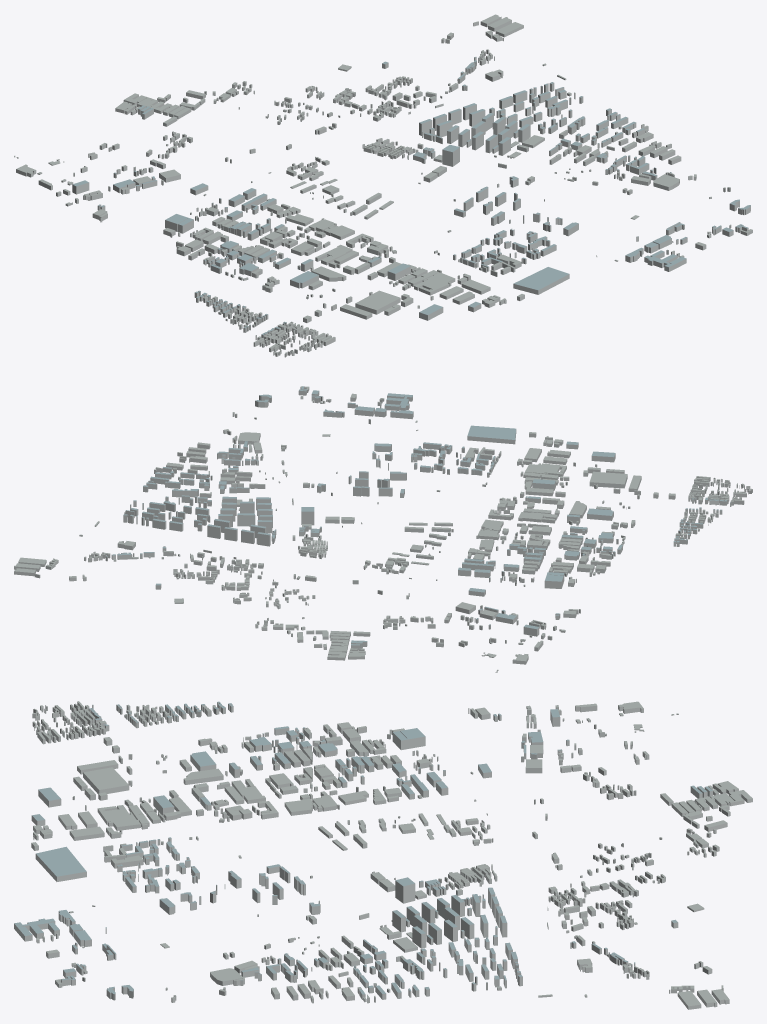
File: far.glb
3 renders of one model, top to bottom at view 1: azimuth 30°, elevation 25°; view 2: azimuth 150°, elevation 25°; view 3: azimuth 270°, elevation 25°, orthographic. The views are drawn at different scales.
Bounding box in the file's own units: 2173 × 57.6 × 2232.
